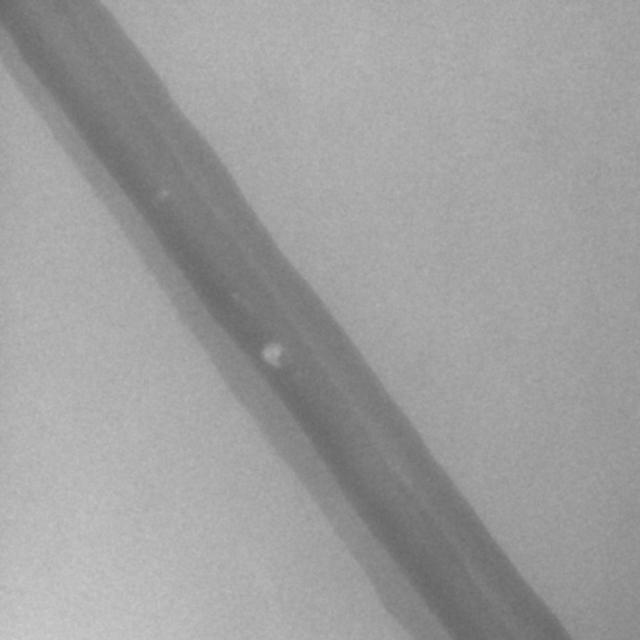air hole: (161, 187, 169, 198)
slag inclusion: (261, 341, 283, 367)
